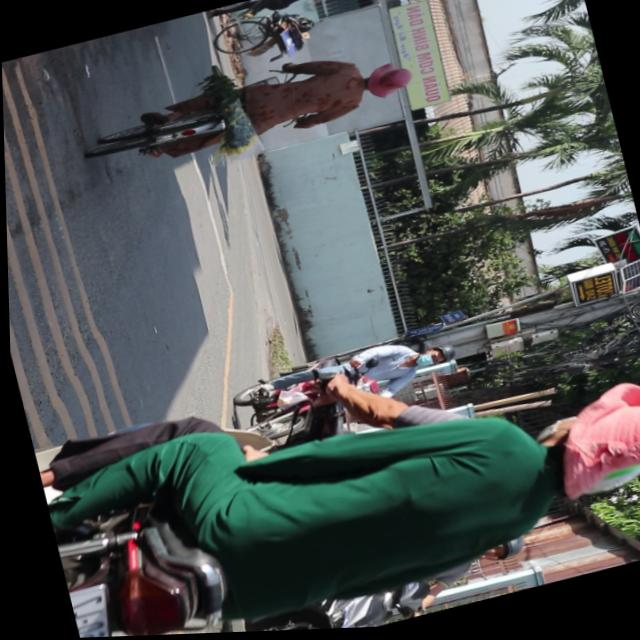helmet: (411, 344, 455, 373)
licenseplate: (25, 285, 640, 639), (222, 328, 462, 439)
motorcyclist: (521, 376, 640, 512)
nohelmet: (65, 584, 112, 639)
